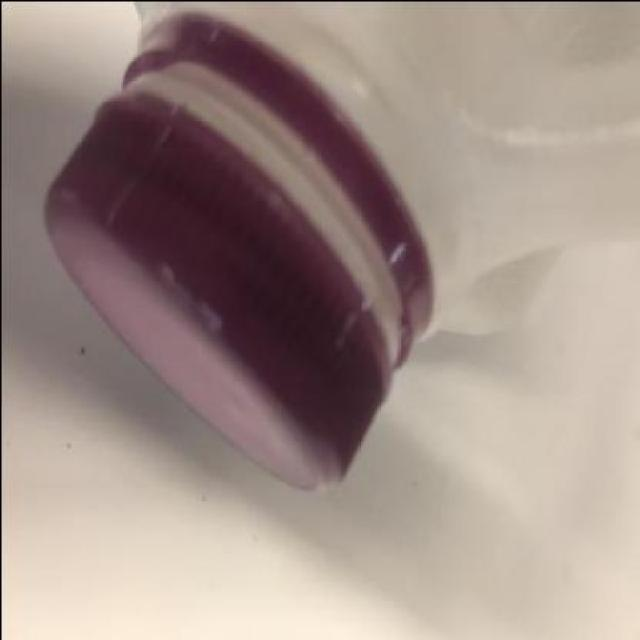PLASTIC: (41, 1, 638, 497), (44, 17, 433, 495)
